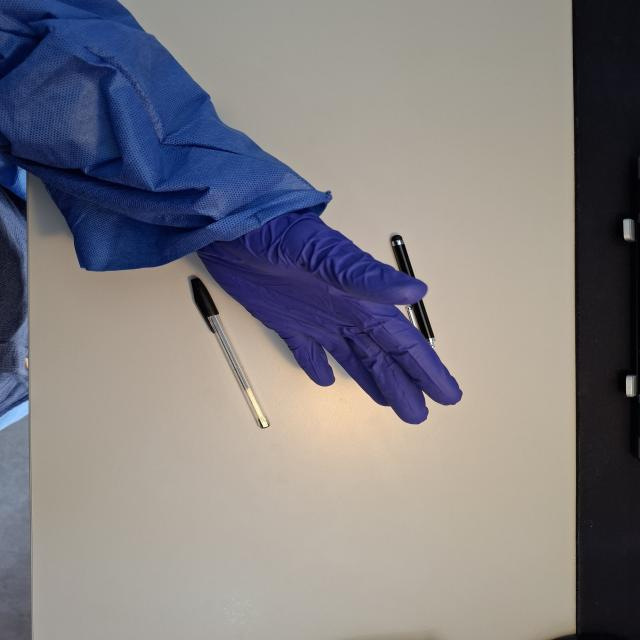glove_on: (188, 193, 465, 427)
